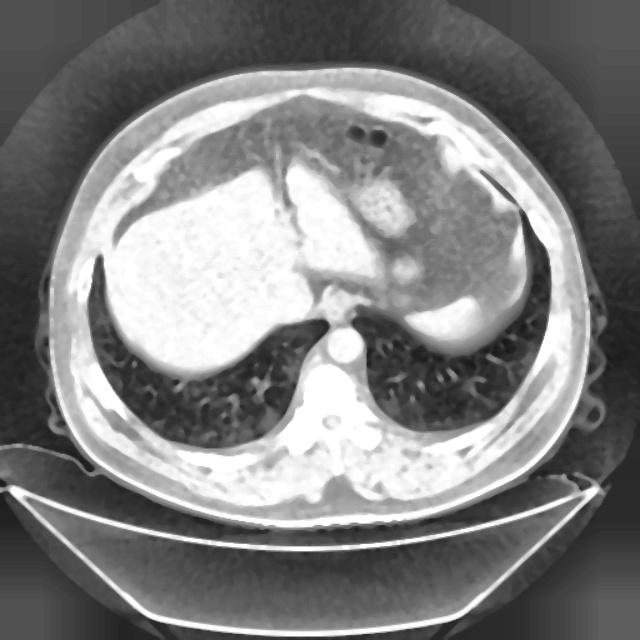covid: (42, 65, 602, 529)
